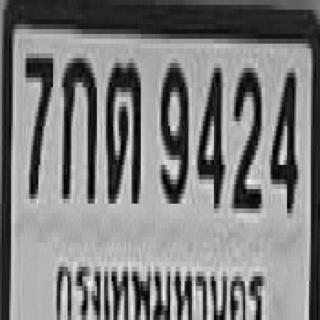A01: (60, 53, 95, 199)
A21: (104, 58, 139, 199)
N02: (231, 63, 259, 204)
N04: (269, 63, 296, 208), (196, 63, 223, 204)
N07: (24, 48, 51, 194)
N09: (159, 58, 186, 199)
P04: (51, 242, 267, 320)
